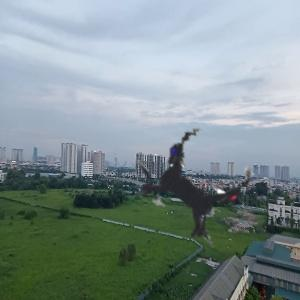drone: (83, 83, 293, 293)
